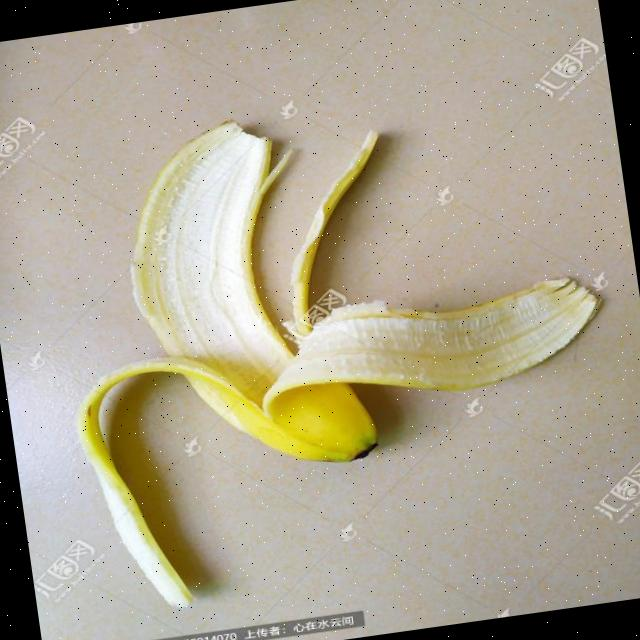banana-peel: (36, 70, 638, 620), (249, 267, 613, 420)
